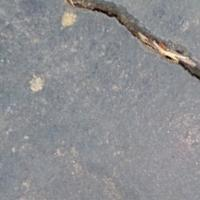crack: (66, 0, 199, 103)
